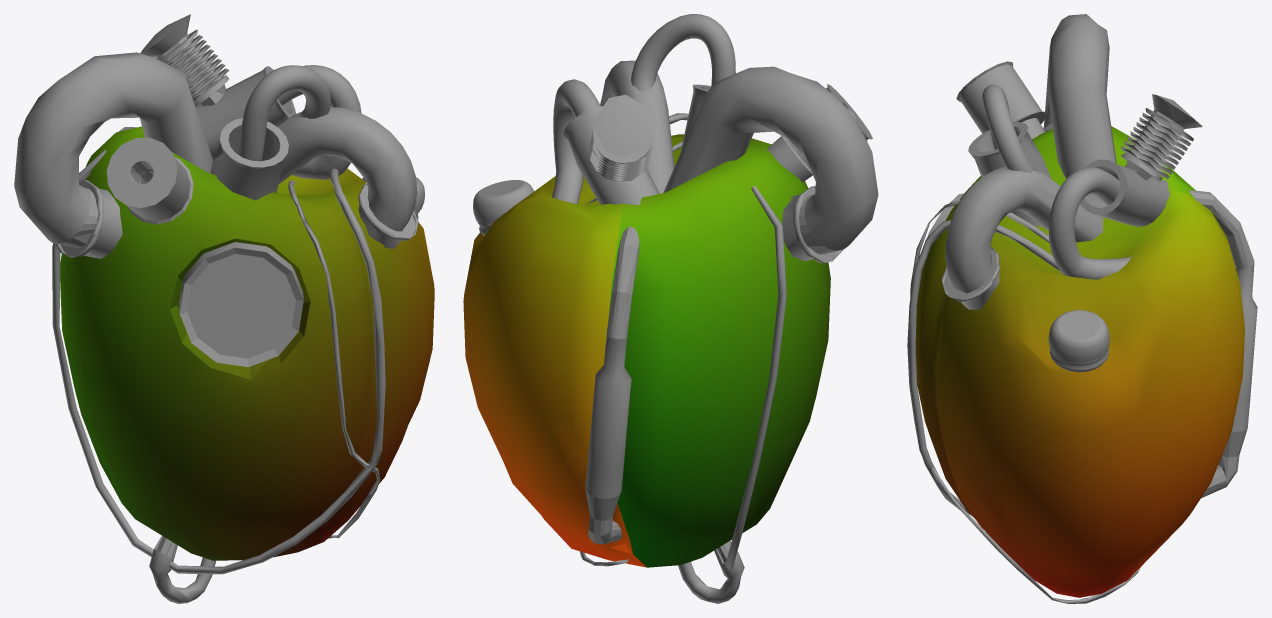
File: Heart.FBX
3 views of the same model, side by side, from view 1: azimuth 30°, elevation 25°; view 2: azimuth 150°, elevation 25°; view 3: azimuth 270°, elevation 25° (orthographic). The views are drawn at different scales.
Visible parts, largest first — view 1: Plane003, Cylinder006, OilTank004, Cylinder005, Line002, Torus Knot001, Cylinder004, Tube003, Tube001, OilTank001, Line001, Cylinder008 (+3 smaller); view 2: Plane003, Cylinder006, Cylinder009, Torus Knot001, Line002, Cylinder005, Tube001, OilTank001, Cylinder001, Sphere001, Cylinder003, Cylinder008 (+3 smaller); view 3: Plane003, Cylinder006, Cylinder005, Torus Knot001, Cylinder009, Tube001, Line002, Cylinder004, Sphere001, Cylinder003, OilTank001, Tube003 (+3 smaller).
Boxes of the visible parts, x1=… form: Plane003: x1=60, y1=126, x2=434, y2=560; Cylinder006: x1=14, y1=52, x2=212, y2=247; OilTank004: x1=179, y1=242, x2=303, y2=367; Cylinder005: x1=277, y1=107, x2=417, y2=231; Line002: x1=52, y1=150, x2=385, y2=574; Torus Knot001: x1=237, y1=65, x2=361, y2=179; Cylinder004: x1=106, y1=137, x2=193, y2=224; Tube003: x1=210, y1=118, x2=288, y2=200; Tube001: x1=195, y1=66, x2=295, y2=159; OilTank001: x1=140, y1=14, x2=225, y2=106; Line001: x1=288, y1=179, x2=380, y2=538; Cylinder008: x1=56, y1=179, x2=122, y2=258; Plane003: x1=463, y1=134, x2=830, y2=567; Cylinder006: x1=663, y1=66, x2=878, y2=254; Cylinder009: x1=585, y1=226, x2=639, y2=544; Torus Knot001: x1=552, y1=14, x2=735, y2=204; Line002: x1=669, y1=113, x2=786, y2=570; Cylinder005: x1=600, y1=60, x2=674, y2=193; Tube001: x1=563, y1=106, x2=659, y2=205; OilTank001: x1=591, y1=94, x2=654, y2=156; Cylinder001: x1=678, y1=541, x2=744, y2=603; Sphere001: x1=473, y1=180, x2=534, y2=223; Cylinder003: x1=589, y1=128, x2=652, y2=181; Cylinder008: x1=782, y1=186, x2=842, y2=263; Plane003: x1=915, y1=126, x2=1244, y2=597; Cylinder006: x1=1043, y1=14, x2=1116, y2=178; Cylinder005: x1=945, y1=166, x2=1103, y2=293; Torus Knot001: x1=982, y1=84, x2=1131, y2=279; Cylinder009: x1=1189, y1=190, x2=1257, y2=498; Tube001: x1=1080, y1=159, x2=1170, y2=226; Line002: x1=907, y1=220, x2=1060, y2=515; Cylinder004: x1=956, y1=61, x2=1046, y2=133; Sphere001: x1=1048, y1=310, x2=1109, y2=362; Cylinder003: x1=1121, y1=108, x2=1193, y2=181; OilTank001: x1=1125, y1=94, x2=1202, y2=180; Tube003: x1=968, y1=122, x2=1050, y2=226.
Bounding box in the file's own units: 56.35 × 45.83 × 74.84.
